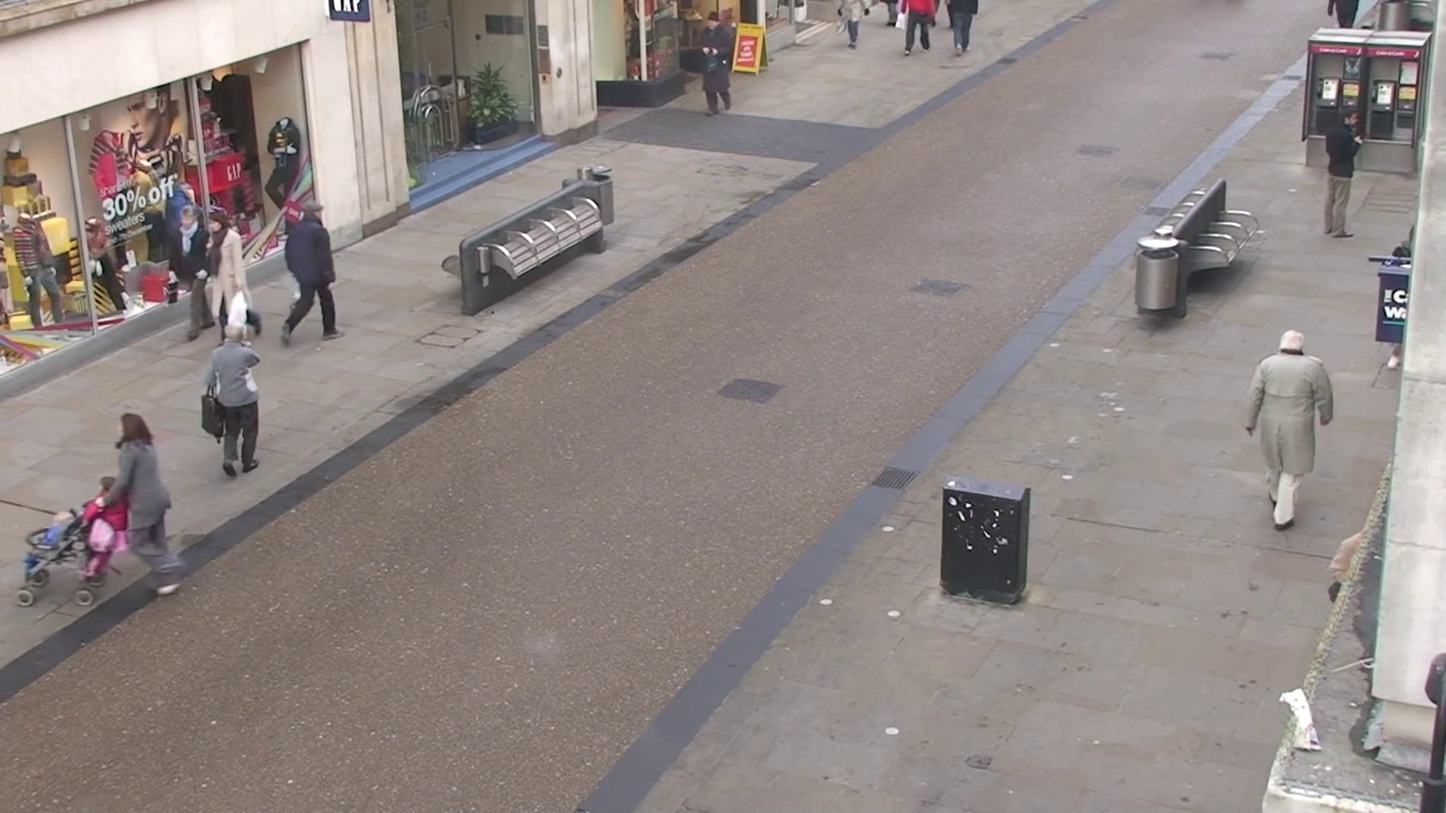person: (1245, 328, 1336, 529), (114, 410, 178, 565), (203, 322, 264, 477), (279, 199, 340, 344), (206, 212, 263, 342), (148, 174, 194, 302), (1322, 111, 1362, 239), (700, 3, 737, 115), (902, 0, 935, 54), (948, 0, 980, 55), (837, 1, 865, 49)
